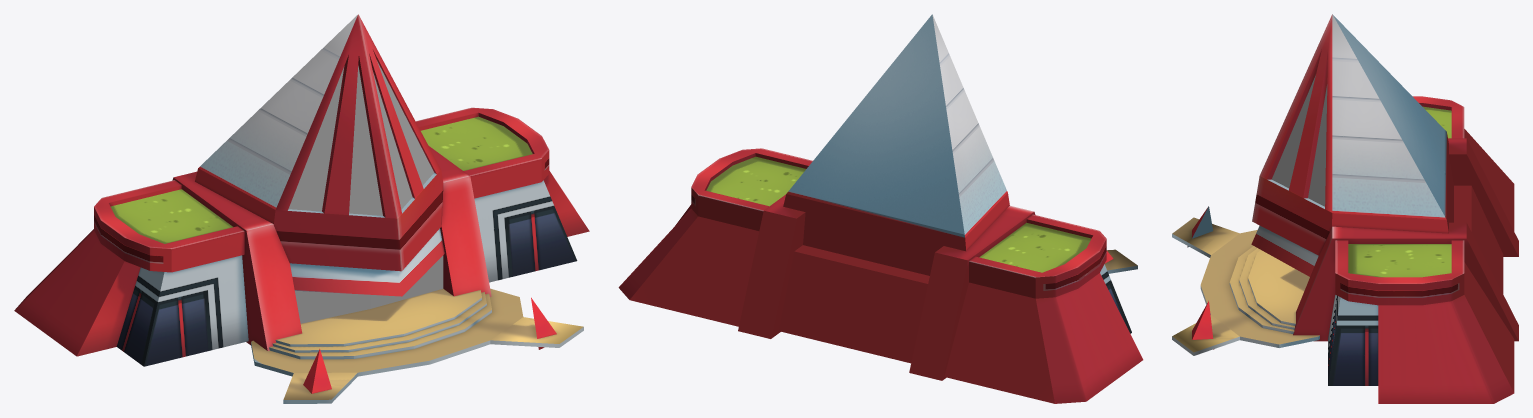
The model's file is RedClan_T1.fbx.
3 renders of one model, left to right at view 1: azimuth 30°, elevation 25°; view 2: azimuth 150°, elevation 25°; view 3: azimuth 270°, elevation 25°, orthographic. The views are drawn at different scales.
Visible parts, largest first — view 1: T1_MainBuilding, T1_Left_Building, T1_Right_Building, T1_Stairs, T1_Left_Deco; view 2: T1_MainBuilding, T1_Left_Building, T1_Right_Building, T1_Stairs; view 3: T1_MainBuilding, T1_Right_Building, T1_Stairs, T1_Left_Building, T1_Right_Deco, T1_Left_Deco.
Part boxes in pixels (x1,y1,x2,y2): T1_MainBuilding: [195, 14, 444, 323]; T1_Left_Building: [14, 171, 301, 366]; T1_Right_Building: [415, 107, 589, 296]; T1_Stairs: [251, 288, 583, 403]; T1_Left_Deco: [303, 349, 331, 393]; T1_MainBuilding: [778, 14, 1009, 363]; T1_Left_Building: [909, 205, 1143, 403]; T1_Right_Building: [618, 148, 812, 338]; T1_Stairs: [1104, 249, 1137, 273]; T1_MainBuilding: [1251, 14, 1503, 293]; T1_Right_Building: [1293, 222, 1518, 403]; T1_Stairs: [1172, 217, 1319, 355]; T1_Left_Building: [1413, 96, 1518, 256]; T1_Right_Deco: [1192, 301, 1214, 349]; T1_Left_Deco: [1187, 206, 1213, 247].
Bounding box in the file's own units: 84.29 × 47.75 × 53.58.
2 materials, 1 textured.
